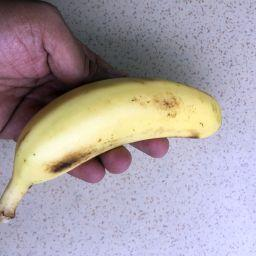Banana Ripe: (2, 70, 225, 222)
